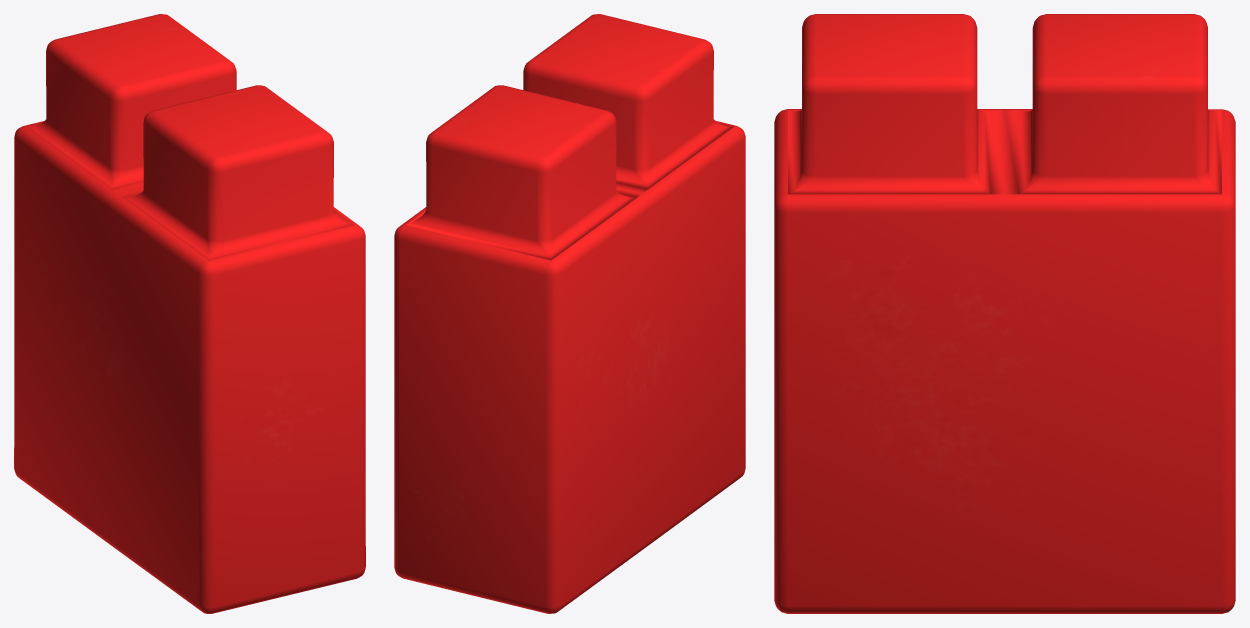
The model's file is 2block.fbx.
The picture shows the model from 3 angles, left to right: view 1: azimuth 30°, elevation 25°; view 2: azimuth 150°, elevation 25°; view 3: azimuth 270°, elevation 25°; orthographic projection. The views are drawn at different scales.
Visible parts, largest first — view 1: Cube.006; view 2: Cube.006; view 3: Cube.006.
Part boxes in pixels (box(x1,y1,x2,y2)): Cube.006: box(14, 14, 365, 613); Cube.006: box(394, 14, 745, 613); Cube.006: box(774, 14, 1235, 613).
Bounding box in the file's own units: 58.55 × 150 × 119.
